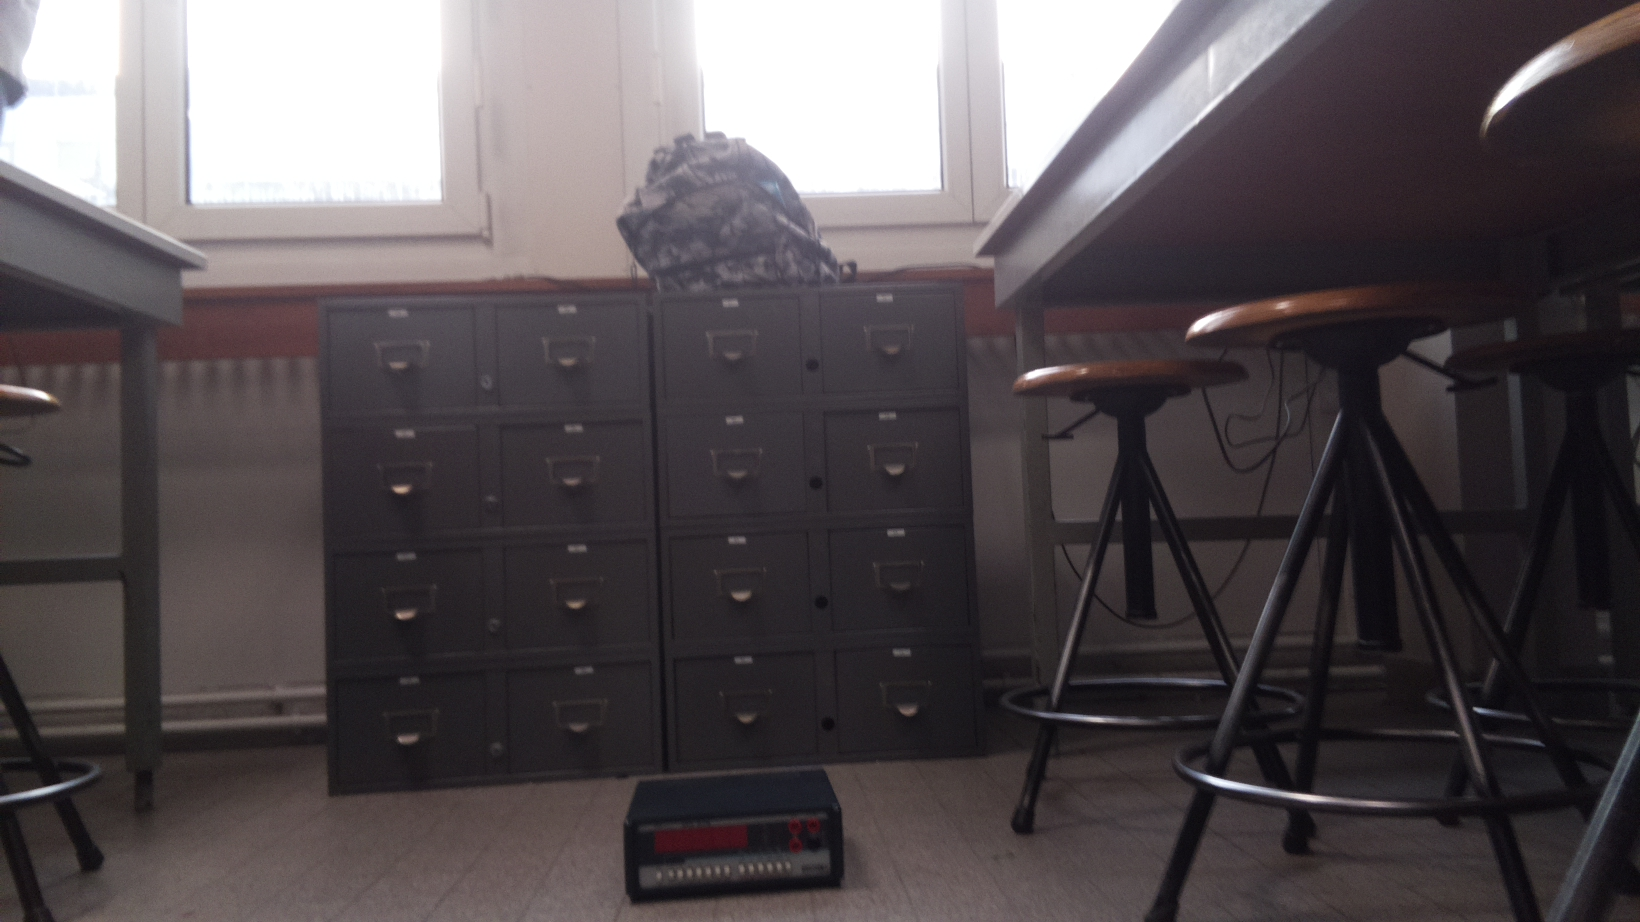big: (615, 129, 866, 289)
medium: (620, 767, 849, 913)
